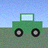vehicle: (12, 14, 42, 37)
